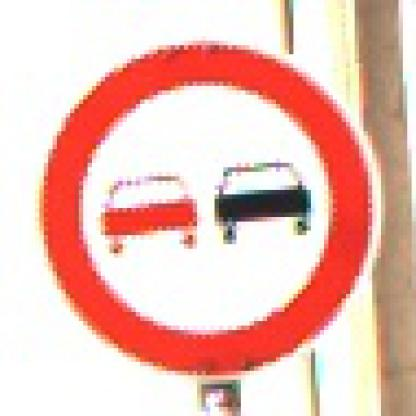No Overtaking: (36, 37, 382, 381)
